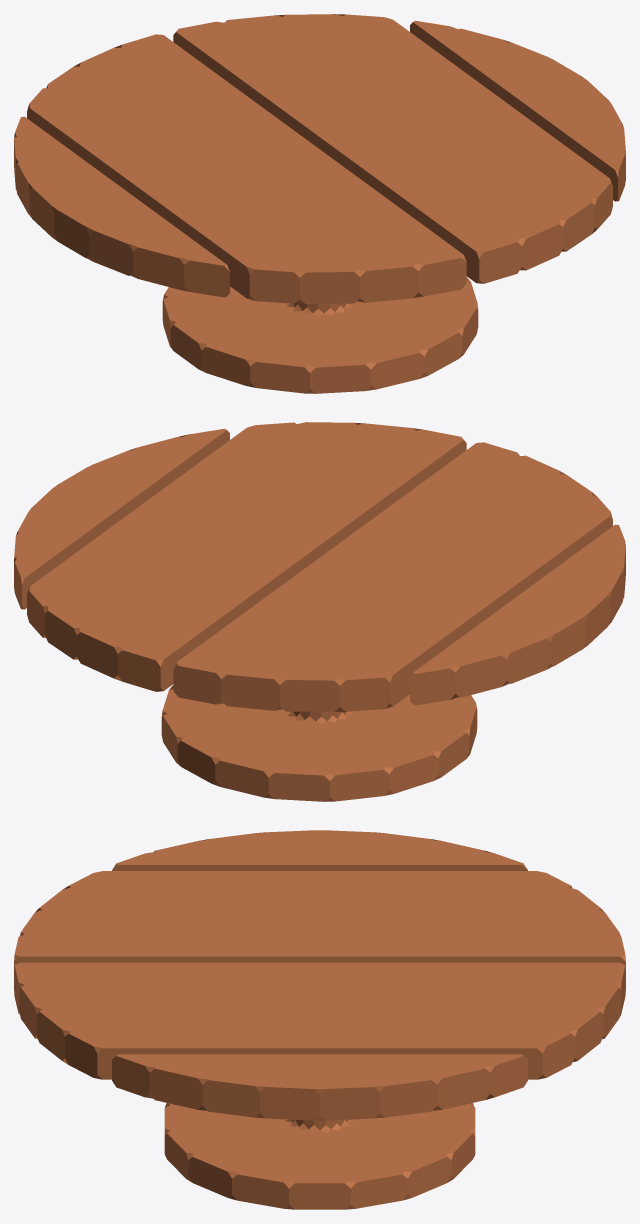
File: MESA1.fbx
3 renders of one model, top to bottom at view 1: azimuth 30°, elevation 25°; view 2: azimuth 150°, elevation 25°; view 3: azimuth 270°, elevation 25°, orthographic.
Parts seen in each view (by area): view 1: Mesa 1; view 2: Mesa 1; view 3: Mesa 1.
Boxes of the visible parts, x1,y1,x2,y2 form: Mesa 1: [14, 14, 625, 393]; Mesa 1: [14, 422, 625, 801]; Mesa 1: [14, 830, 625, 1209].
Bounding box in the file's own units: 149 × 49.5 × 149.
